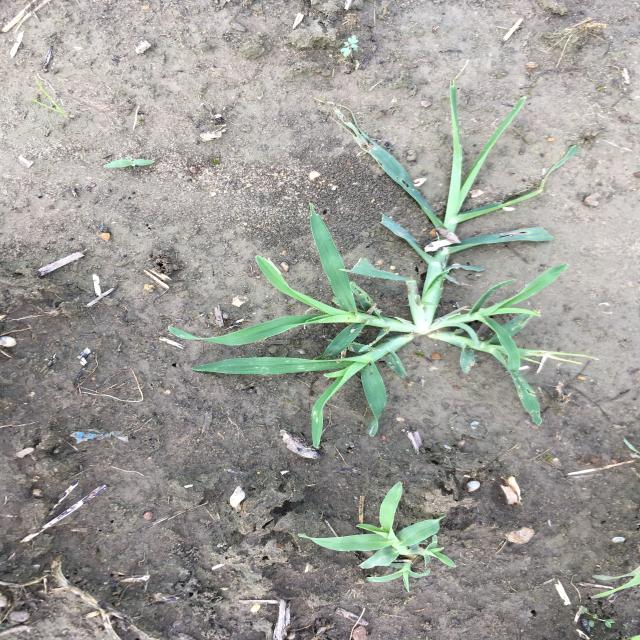Goosegrass: (166, 58, 604, 449), (294, 481, 459, 594)
